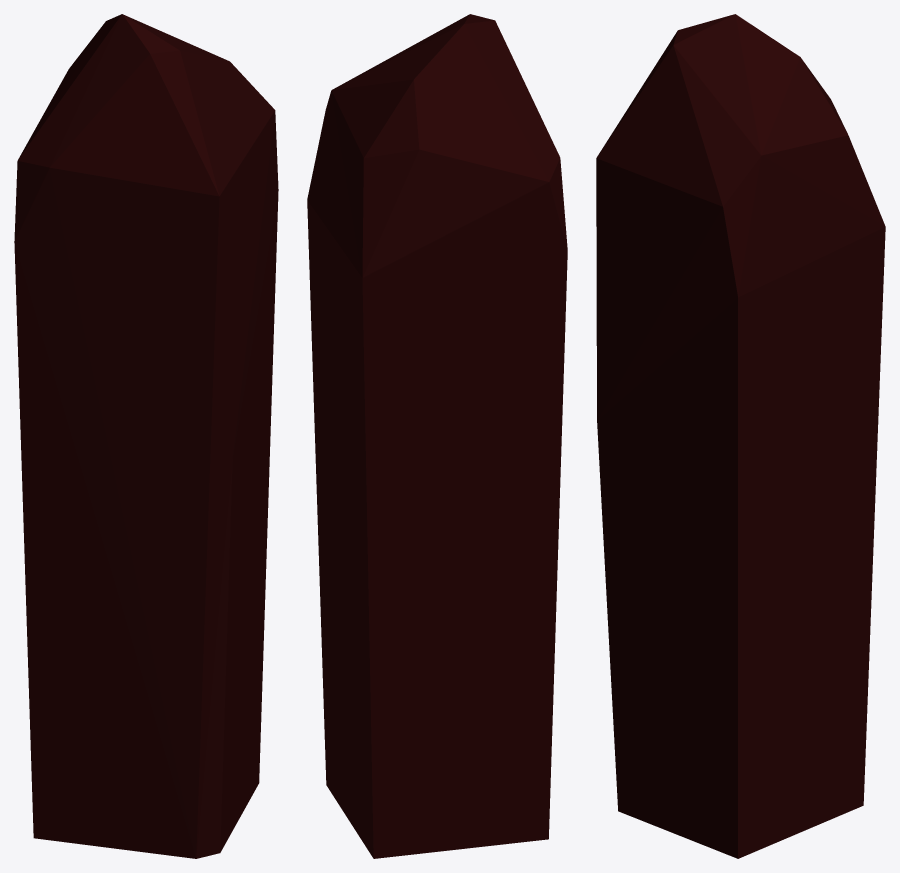
The model's file is UCX_Pillar_C.fbx.
3 renders of one model, left to right at view 1: azimuth 30°, elevation 25°; view 2: azimuth 150°, elevation 25°; view 3: azimuth 270°, elevation 25°, orthographic. The views are drawn at different scales.
Visible parts, largest first — view 1: UCX_Pillar_C; view 2: UCX_Pillar_C; view 3: UCX_Pillar_C.
Boxes of the visible parts, x1,y1,x2,y2 form: UCX_Pillar_C: [14, 14, 278, 858]; UCX_Pillar_C: [307, 14, 567, 858]; UCX_Pillar_C: [596, 14, 885, 858].
Bounding box in the file's own units: 123 × 359 × 121.
